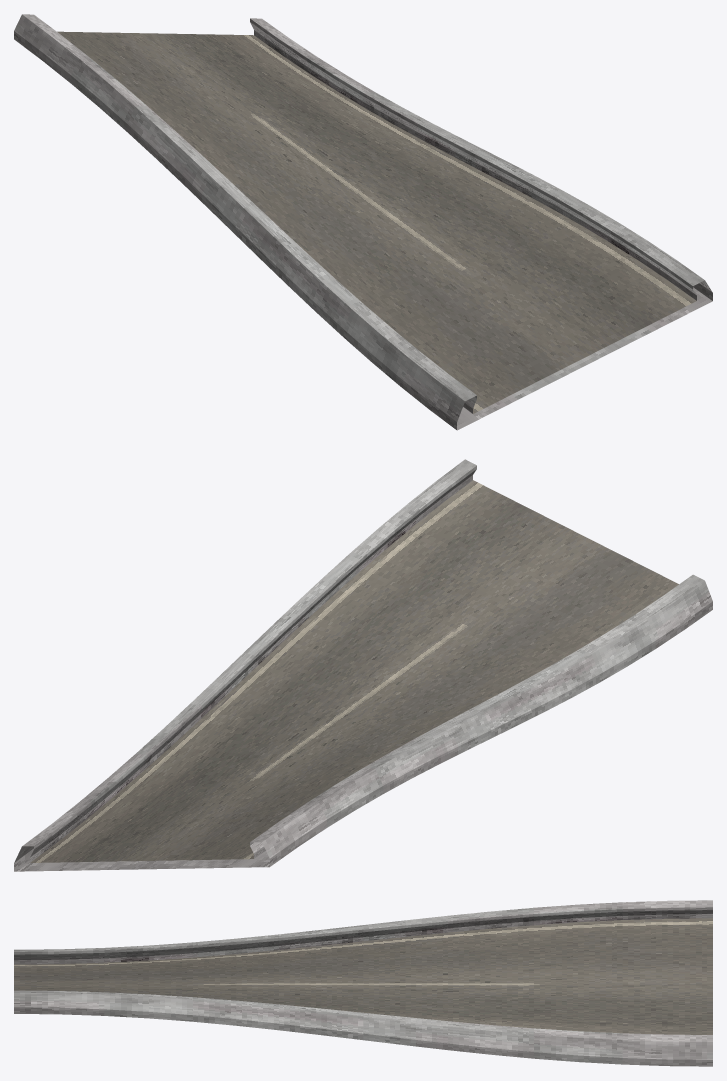
The model's file is road-Straight-HalfBankedLeft-HalfBankedRight-Even-Center-Size3.glb.
The picture shows the model from 3 angles, top to bottom: view 1: azimuth 30°, elevation 25°; view 2: azimuth 150°, elevation 25°; view 3: azimuth 270°, elevation 25°; orthographic projection. The views are drawn at different scales.
Parts seen in each view (by area): view 1: road-Straight-HalfBankedLeft-HalfBankedRight-Even-Center-Siz; view 2: road-Straight-HalfBankedLeft-HalfBankedRight-Even-Center-Siz; view 3: road-Straight-HalfBankedLeft-HalfBankedRight-Even-Center-Siz.
Boxes of the visible parts, x1,y1,x2,y2 form: road-Straight-HalfBankedLeft-HalfBankedRight-Even-Center-Siz: (14, 14, 712, 430); road-Straight-HalfBankedLeft-HalfBankedRight-Even-Center-Siz: (14, 459, 712, 871); road-Straight-HalfBankedLeft-HalfBankedRight-Even-Center-Siz: (14, 900, 712, 1066).
Size of the model in its own units: 1 by 0.3359 by 3.
Materials: 2 (2 with a texture image).
